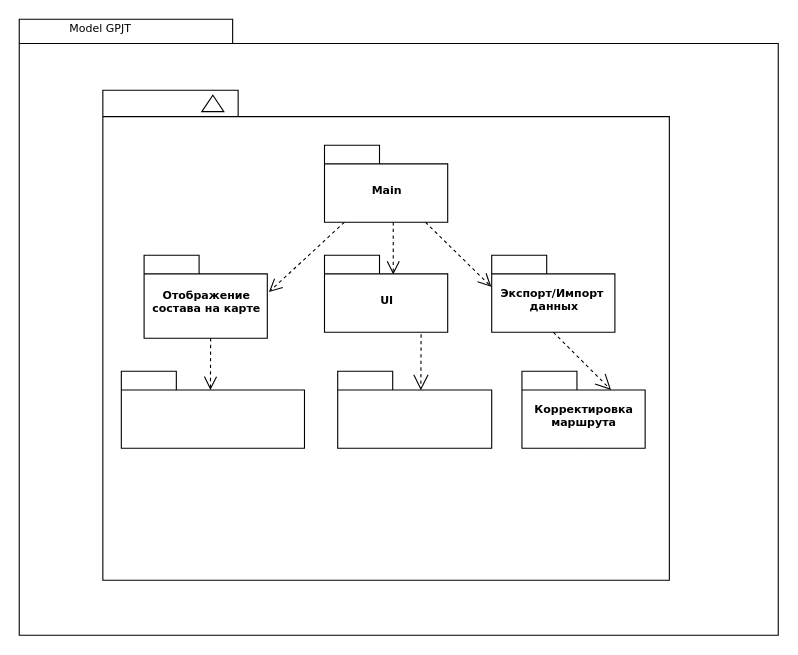
The diagram is 798 pixels wide and 655 high, and some of its shapes have lost their labels. The centre of each missing label's shape, as x and y in pixels:
"Получение инфомации о местах загрузки/выгрузки" goes at (212,409).
"Сайт для персонала" goes at (414,409).
